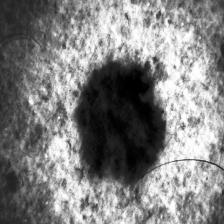Benign Marking or Mole: (75, 60, 167, 181)
